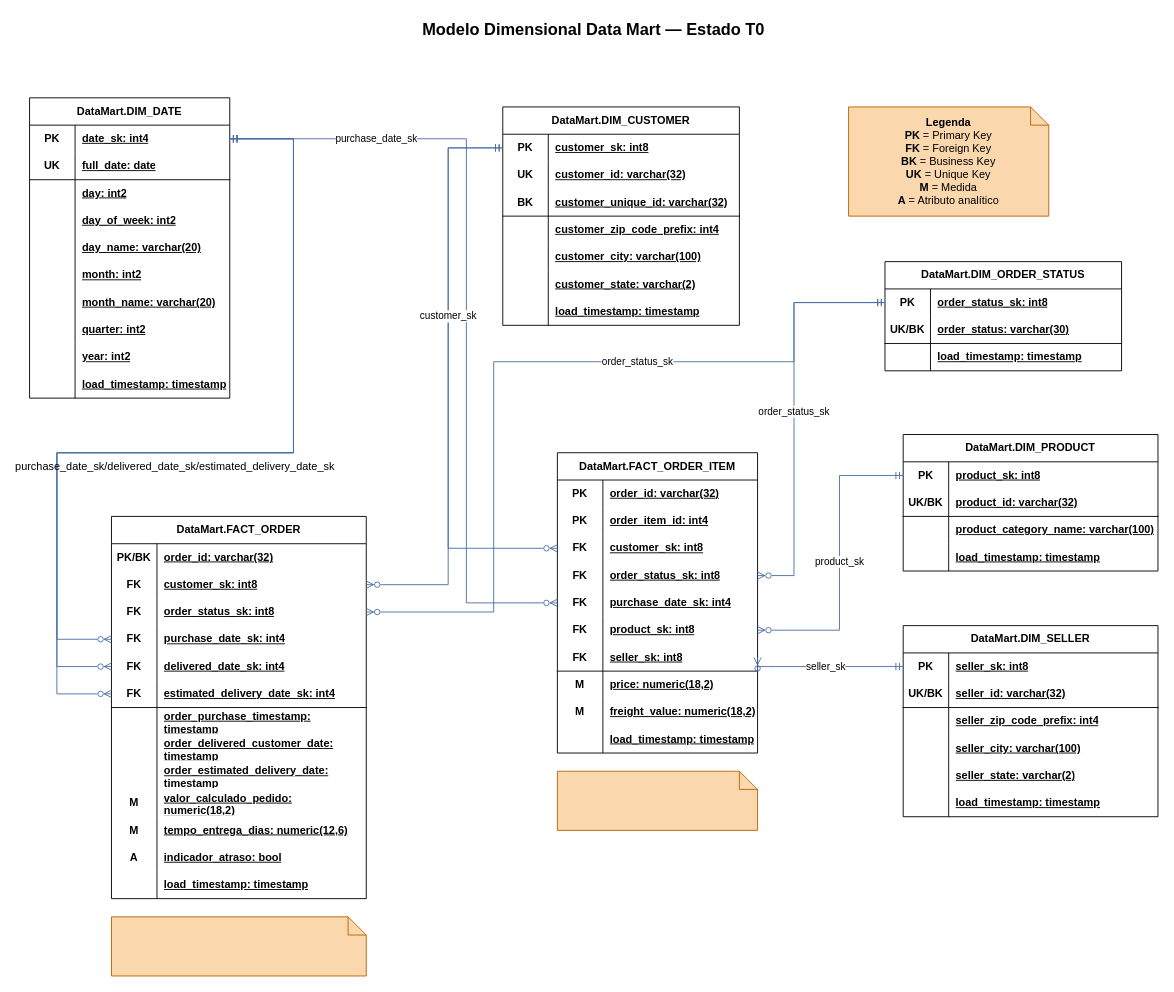
This 1174x992 diagram has some shape labels left out. The shapes that lost their labels are listed below. From the top down, each one's centre as x and y in pixels, then its label:
At point (657, 800): "Grão da FACT_ORDER_ITEM 1 linha por (order_id, order_item_id) .".
At point (238, 946): "Grão da FACT_ORDER 1 linha por order_id .".
